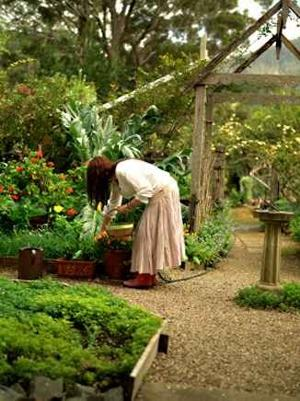person: (87, 153, 187, 294)
